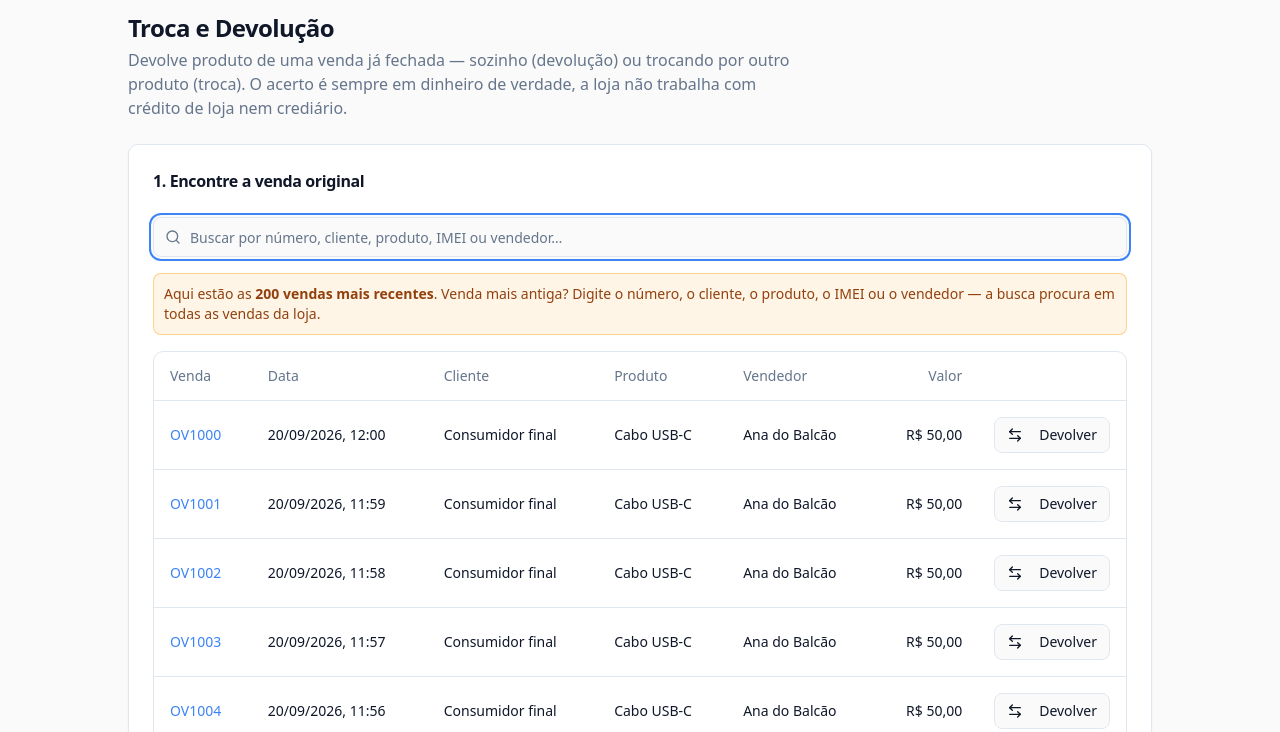
Test: Troca e Devolução: a busca vai ao banco inteiro › acha pelo nome do CLIENTE
This screenshot has width=1280, height=732.
expect the button "OV1000" is shown: met, box top-left (170, 424), bottom-right (221, 444)
Type "joana" into the field with placeholder "Buscar por número, cliente, produto, IMEI ou vendedor…" at coordinates (640, 237), box top-left (153, 217), bottom-right (1127, 257)
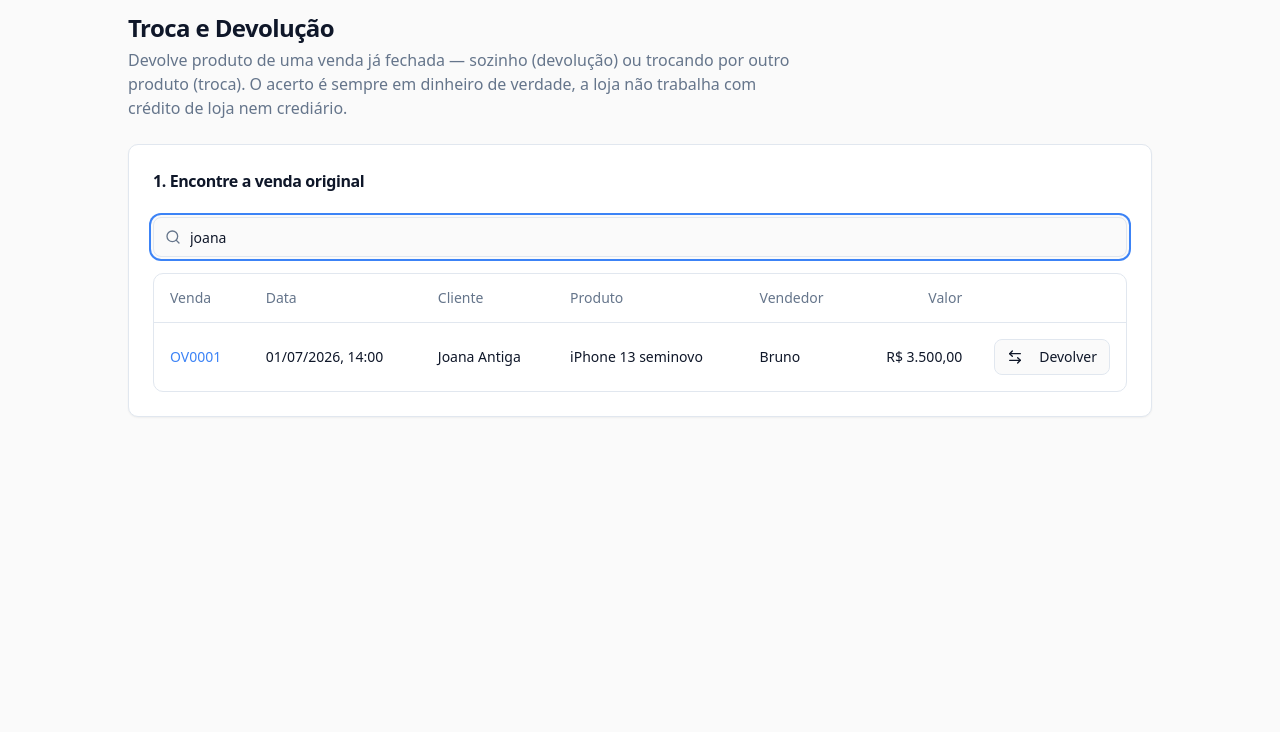
expect the button "OV0001" is shown: met, box top-left (170, 346), bottom-right (221, 366)
